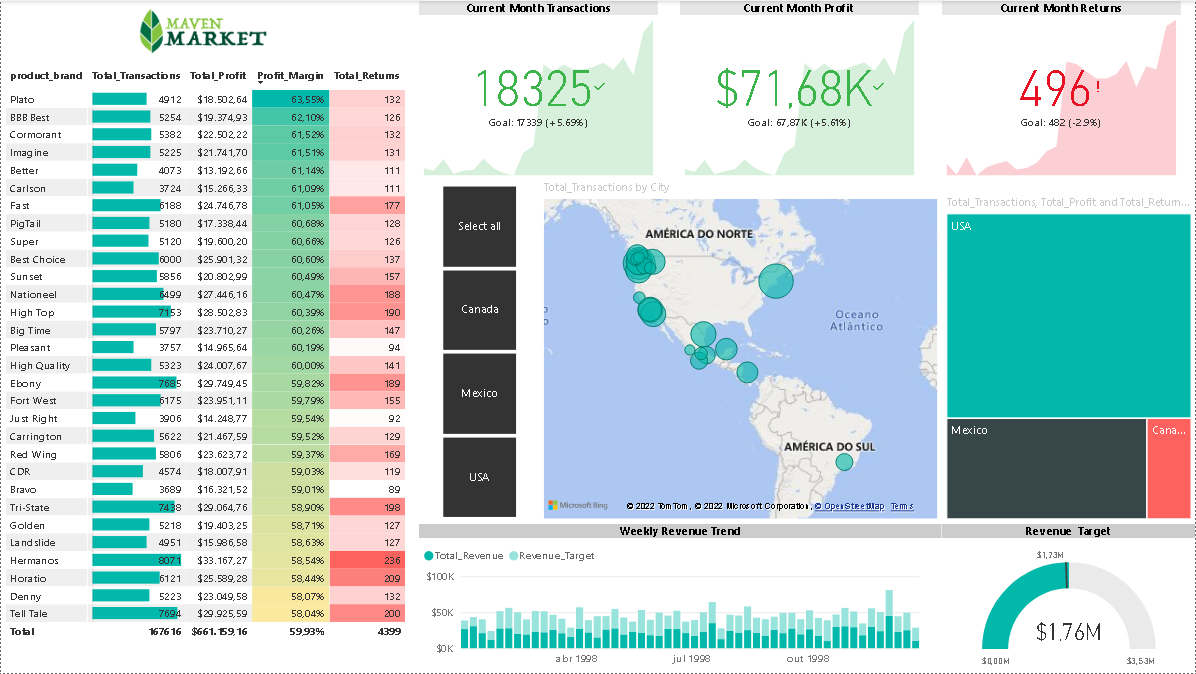

This screenshot's page, from the dashboard's own definition file:
{"tool":"powerbi","page":{"name":"Monthly_Topline_Performance","canvas":[1280,720],"ordinal":0},"visuals":[{"type":"pivotTable","fields":{"Rows":["Products.product_brand"],"Values":["Transaction_Data.Total_Transactions","Transaction_Data.Total_Profit","Transaction_Data.Profit_Margin","Returns_Data.Total_Returns"]},"box":[0,64,448,656],"z":0},{"type":"image","box":[0,0,432,64],"z":1000},{"type":"kpi","title":"Current Month Transactions","fields":{"Indicator":["Transaction_Data.Total_Transactions"],"TrendLine":["Calendar.Start of Month"],"Goal":["Transaction_Data.Last_Month_Transactions"]},"box":[448,0,256,192],"z":2000},{"type":"kpi","title":"Current Month Profit","fields":{"TrendLine":["Calendar.Start of Month"],"Indicator":["Transaction_Data.Total_Profit"],"Goal":["Transaction_Data.Last_Month_Profit"]},"box":[728,0,256,192],"z":3000},{"type":"kpi","title":"Current Month Returns","fields":{"TrendLine":["Calendar.Start of Month"],"Goal":["Returns_Data.Last_Month_Returns"],"Indicator":["Returns_Data.Total_Returns"]},"box":[1008,0,256,192],"z":4000},{"type":"map","fields":{"Size":["Transaction_Data.Total_Transactions"],"Category":["Stores.City"]},"box":[576,192,432,368],"z":5000},{"type":"slicer","fields":{"Values":["Stores.Country"]},"box":[448,192,128,368],"z":6000},{"type":"treemap","fields":{"Values":["Transaction_Data.Total_Transactions"],"Group":["Stores.Country"]},"box":[1008,208,272,352],"z":7000},{"type":"columnChart","title":"Weekly Revenue Trend","fields":{"Y":["Transaction_Data.Total_Revenue","Transaction_Data.Revenue_Target"],"Category":["Calendar.Start of Week"]},"box":[448,560,560,160],"z":8000},{"type":"gauge","title":"Revenue  Target","fields":{"Y":["Transaction_Data.Total_Revenue"],"TargetValue":["Transaction_Data.Revenue_Target"]},"box":[1008,560,272,160],"z":9000}]}

Visuals, with their boxes in screenshot pixels (x1, y1, x2, y2), scaled from the page's 1280x720 canvas onto the 1196x674 screenshot:
pivotTable - Products.product_brand x Transaction_Data.Total_Transactions: <box>0,60,419,673</box>
image: <box>0,0,404,60</box>
"Current Month Transactions" kpi: <box>419,0,658,180</box>
"Current Month Profit" kpi: <box>680,0,919,180</box>
"Current Month Returns" kpi: <box>942,0,1181,180</box>
map - Transaction_Data.Total_Transactions x Stores.City: <box>538,180,942,524</box>
slicer - Stores.Country: <box>419,180,538,524</box>
treemap - Transaction_Data.Total_Transactions x Stores.Country: <box>942,195,1195,524</box>
"Weekly Revenue Trend" columnChart: <box>419,524,942,673</box>
"Revenue  Target" gauge: <box>942,524,1195,673</box>
